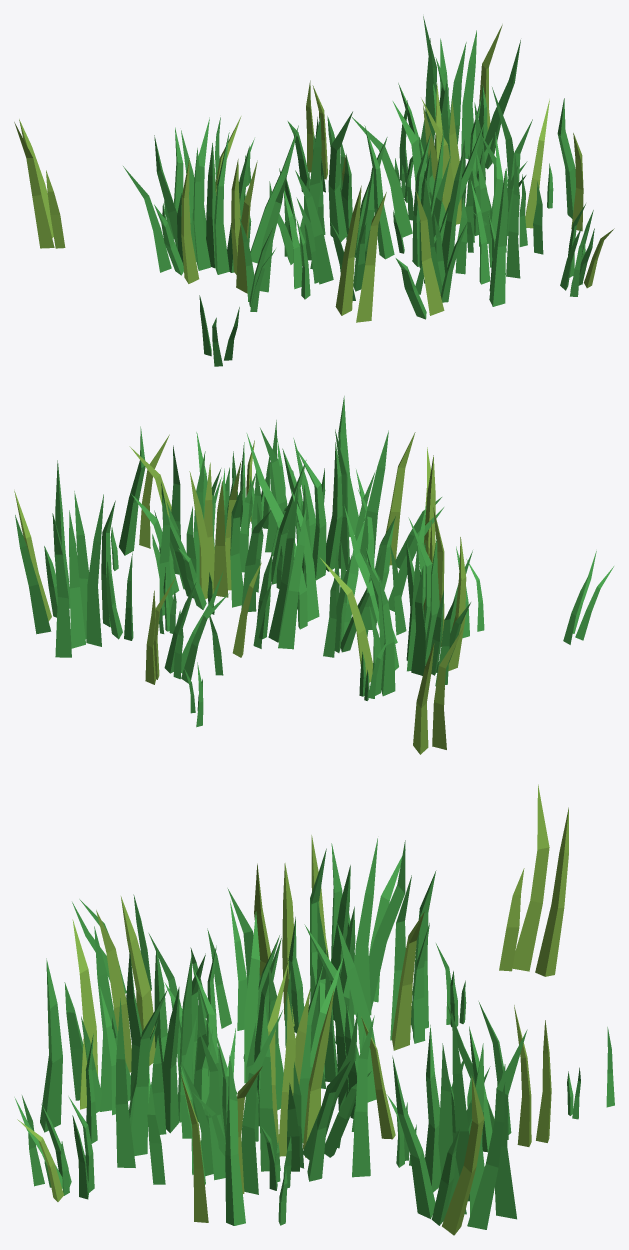
The model's file is grassmix.gltf.
3 renders of one model, top to bottom at view 1: azimuth 30°, elevation 25°; view 2: azimuth 150°, elevation 25°; view 3: azimuth 270°, elevation 25°, orthographic. The views are drawn at different scales.
Visible parts, largest first — view 1: group1744197509, group9935422, group1743764551, group1617591992, group1681983211, group1005795212, group1495017289, group902223660, group1446851719, group443349435, group908757786, group1878667904 (+45 smaller); view 2: group774800547, group2095924070, group2057631278, group201890841, group1743764551, group1325005311, group945836210, group54891894, group1255547812, group612556706, group337239005, group1495017289 (+55 smaller); view 3: group1495017289, group1744197509, group54891894, group360301143, group1661925368, group774800547, group2043014497, group46854911, group1697339476, group252032136, group1255547812, group678362861 (+65 smaller).
Part boxes in pixels (bbox=[...]): group1744197509: bbox=[489, 169, 508, 306]; group9935422: bbox=[335, 185, 361, 315]; group1743764551: bbox=[328, 111, 352, 241]; group1617591992: bbox=[356, 192, 386, 322]; group1681983211: bbox=[416, 190, 444, 315]; group1005795212: bbox=[214, 132, 229, 274]; group1495017289: bbox=[14, 122, 54, 248]; group902223660: bbox=[352, 117, 412, 237]; group1446851719: bbox=[181, 158, 199, 283]; group443349435: bbox=[295, 170, 333, 284]; group908757786: bbox=[364, 125, 394, 259]; group1878667904: bbox=[193, 148, 210, 270]; group774800547: bbox=[52, 513, 71, 657]; group2095924070: bbox=[86, 494, 103, 646]; group2057631278: bbox=[278, 507, 306, 649]; group201890841: bbox=[69, 510, 85, 648]; group1743764551: bbox=[268, 484, 298, 642]; group1325005311: bbox=[295, 447, 326, 580]; group945836210: bbox=[326, 442, 342, 571]; group54891894: bbox=[119, 426, 145, 555]; group1255547812: bbox=[15, 515, 51, 634]; group612556706: bbox=[230, 484, 243, 607]; group337239005: bbox=[378, 575, 395, 696]; group1495017289: bbox=[432, 628, 462, 749]; group1495017289: bbox=[512, 784, 549, 971]; group1744197509: bbox=[40, 958, 62, 1132]; group54891894: bbox=[225, 1055, 245, 1225]; group360301143: bbox=[535, 807, 568, 976]; group1661925368: bbox=[442, 1076, 484, 1235]; group774800547: bbox=[494, 1029, 527, 1219]; group2043014497: bbox=[392, 1056, 435, 1218]; group46854911: bbox=[352, 1015, 374, 1177]; group1697339476: bbox=[131, 989, 167, 1155]; group252032136: bbox=[241, 1009, 283, 1194]; group1255547812: bbox=[467, 1082, 505, 1229]; group678362861: bbox=[115, 998, 135, 1167].
Size of the model in its own units: 0.9109 by 0.295 by 0.7792.
